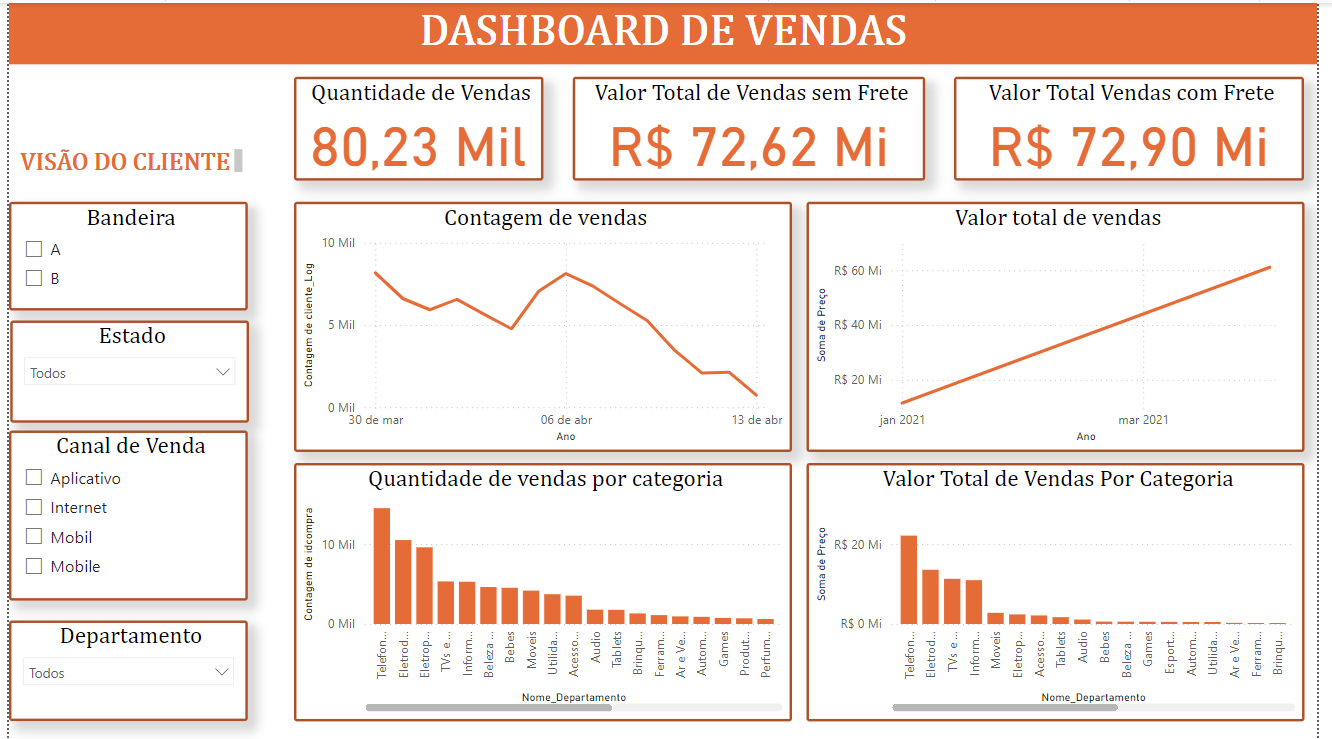

The dashboard page shown, as its layout file describes it:
{"tool":"powerbi","page":{"name":"dashvendas","canvas":[1280,720],"ordinal":0},"visuals":[{"type":"card","title":"Quantidade de Vendas","fields":{"Values":["CountNonNull(base compra.idcompra)"]},"box":[278.8,72.5,243.8,101.2],"z":0},{"type":"card","title":"Valor Total de Vendas sem Frete","fields":{"Values":["Sum(base compra.Preço)"]},"box":[551.2,72.5,345,101.2],"z":1000},{"type":"card","title":"Valor Total Vendas com Frete","fields":{"Values":["Sum(base compra.Preço_com_frete)"]},"box":[925,72.5,342.5,101.2],"z":2000},{"type":"lineChart","title":"Contagem de vendas ","fields":{"Y":["CountNonNull(base compra.cliente_Log)"],"Category":["base compra.Data.Variation.Hierarquia de datas.Ano","base compra.Data.Variation.Hierarquia de datas.Mês","base compra.Data.Variation.Hierarquia de datas.Dia"]},"box":[278.8,195,487.5,245],"z":3000},{"type":"lineChart","title":"Valor total de vendas","fields":{"Category":["base compra.Data.Variation.Hierarquia de datas.Ano","base compra.Data.Variation.Hierarquia de datas.Trimestre","base compra.Data.Variation.Hierarquia de datas.Mês","base compra.Data.Variation.Hierarquia de datas.Dia"],"Y":["Sum(base compra.Preço)"]},"box":[780,195,487.5,245],"z":4000},{"type":"columnChart","title":"Quantidade de vendas por categoria","fields":{"Category":["base compra.Nome_Departamento"],"Y":["Count(base compra.idcompra)"]},"box":[278.8,450,487.5,252.5],"z":5000},{"type":"columnChart","title":"Valor Total de Vendas Por Categoria","fields":{"Category":["base compra.Nome_Departamento"],"Y":["Sum(base compra.Preço)"]},"box":[780,450,487.5,252.5],"z":6000},{"type":"slicer","title":"Bandeira","fields":{"Values":["base compra.bandeira"]},"box":[0,195,233.8,106.2],"z":7000},{"type":"slicer","title":"Estado","fields":{"Values":["base compra.estado"]},"box":[1.2,310,233.8,100],"z":8000},{"type":"slicer","title":"Canal de Venda","fields":{"Values":["base compra.idcanalvenda"]},"box":[0,418.8,233.8,166.2],"z":9000},{"type":"slicer","title":"Departamento","fields":{"Values":["base compra.Nome_Departamento"]},"box":[0,603.8,233.8,98.8],"z":10000},{"type":"textbox","box":[0,0,1280,60],"z":11000},{"type":"textbox","box":[1.2,138.8,232.5,35],"z":12000}]}

Visuals, with their boxes in screenshot pixels (x1, y1, x2, y2), scaled from the page's 1280x720 canvas onto the 1332x739 screenshot:
"Quantidade de Vendas" card: [left=290, top=74, right=544, bottom=178]
"Valor Total de Vendas sem Frete" card: [left=574, top=74, right=933, bottom=178]
"Valor Total Vendas com Frete" card: [left=963, top=74, right=1319, bottom=178]
"Contagem de vendas " lineChart: [left=290, top=200, right=797, bottom=452]
"Valor total de vendas" lineChart: [left=812, top=200, right=1319, bottom=452]
"Quantidade de vendas por categoria" columnChart: [left=290, top=462, right=797, bottom=721]
"Valor Total de Vendas Por Categoria" columnChart: [left=812, top=462, right=1319, bottom=721]
"Bandeira" slicer: [left=0, top=200, right=243, bottom=309]
"Estado" slicer: [left=1, top=318, right=245, bottom=421]
"Canal de Venda" slicer: [left=0, top=430, right=243, bottom=600]
"Departamento" slicer: [left=0, top=620, right=243, bottom=721]
textbox: [left=0, top=0, right=1331, bottom=62]
textbox: [left=1, top=142, right=243, bottom=178]
